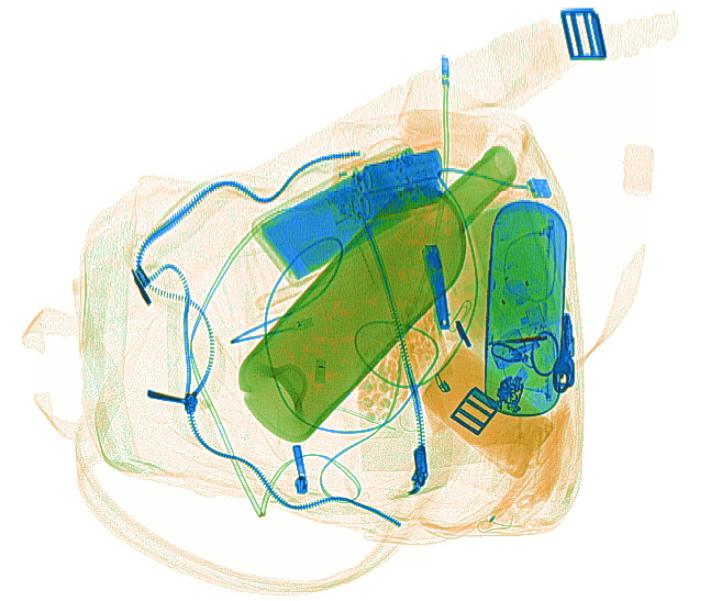battery: (331, 146, 447, 231)
